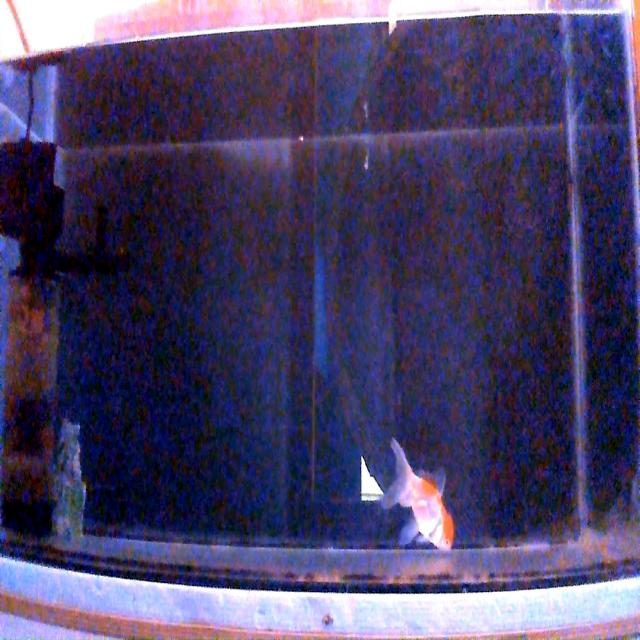fish: (378, 436, 454, 550)
